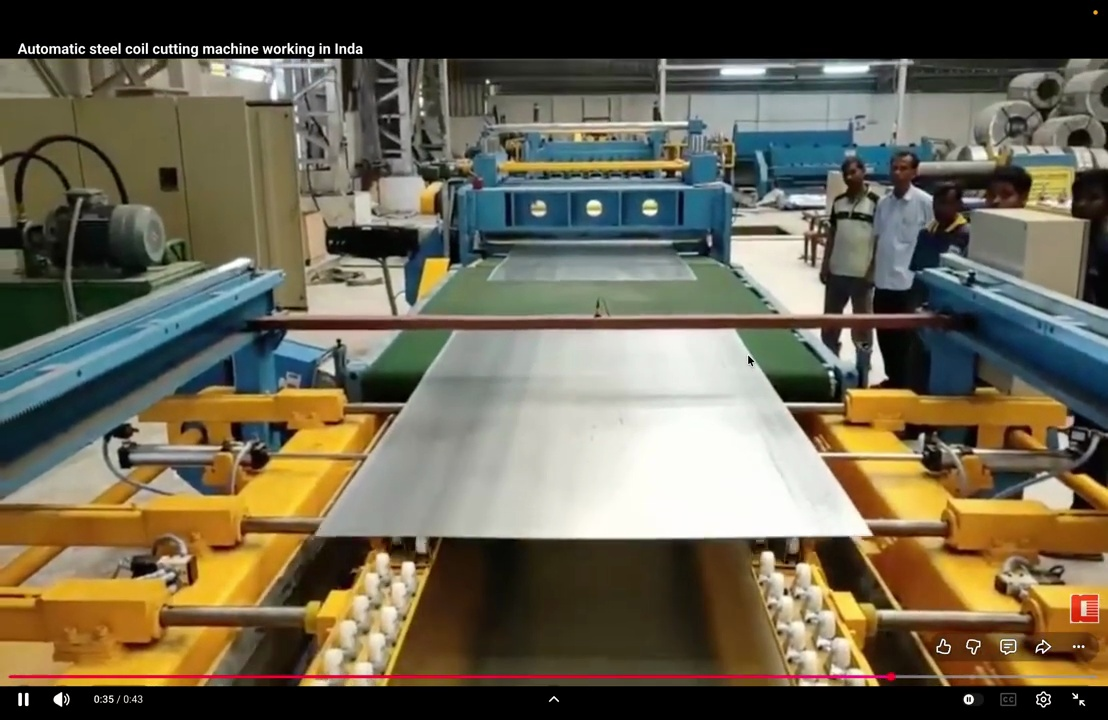steel plate: (317, 330, 869, 539), (489, 243, 695, 281)
